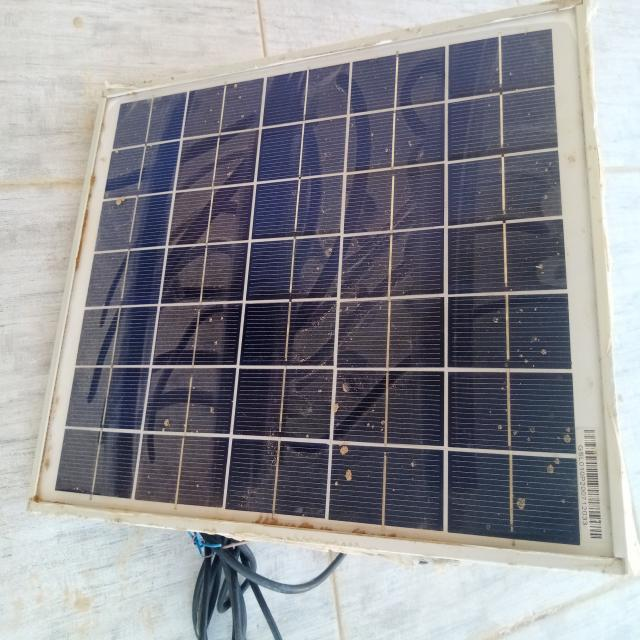faulty: (30, 1, 623, 570)
